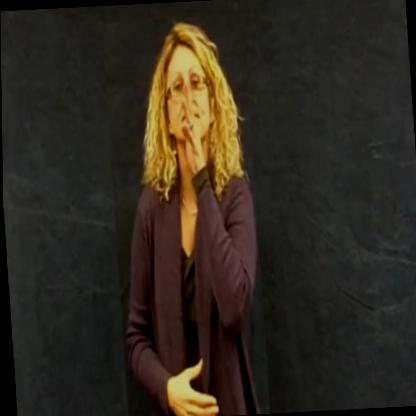Talk: (101, 14, 269, 416)
